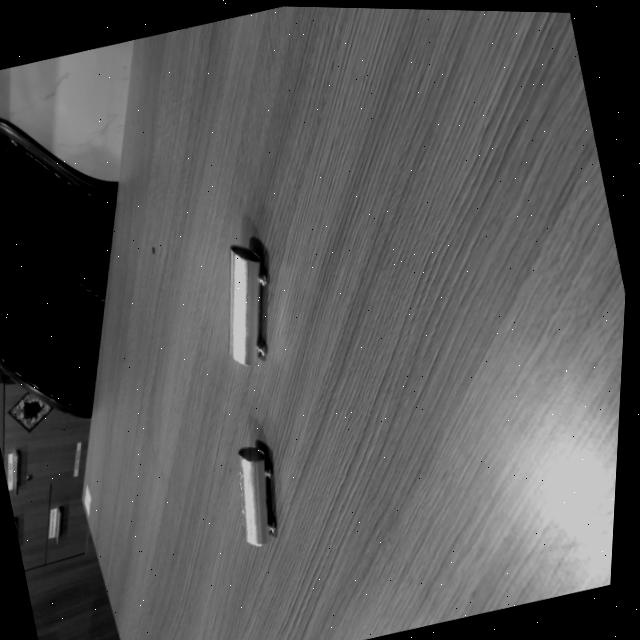Co_Lon: (228, 245, 267, 366)
Co_Nho: (236, 445, 277, 547)
